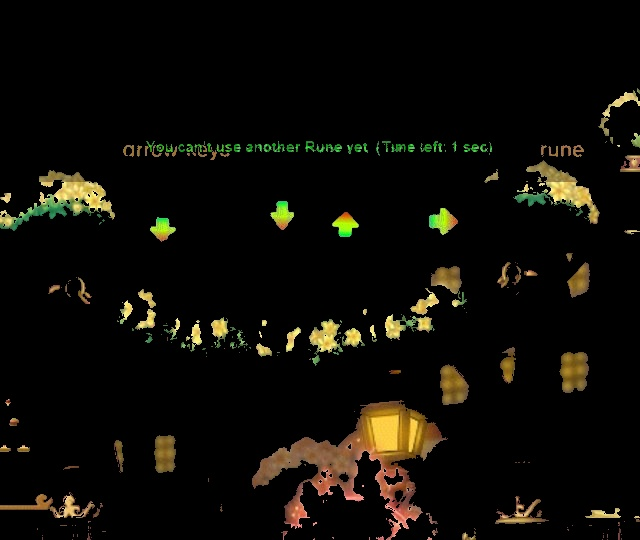down: (261, 196, 305, 238), (144, 212, 183, 248)
right: (423, 204, 465, 240)
up: (327, 206, 367, 244)
